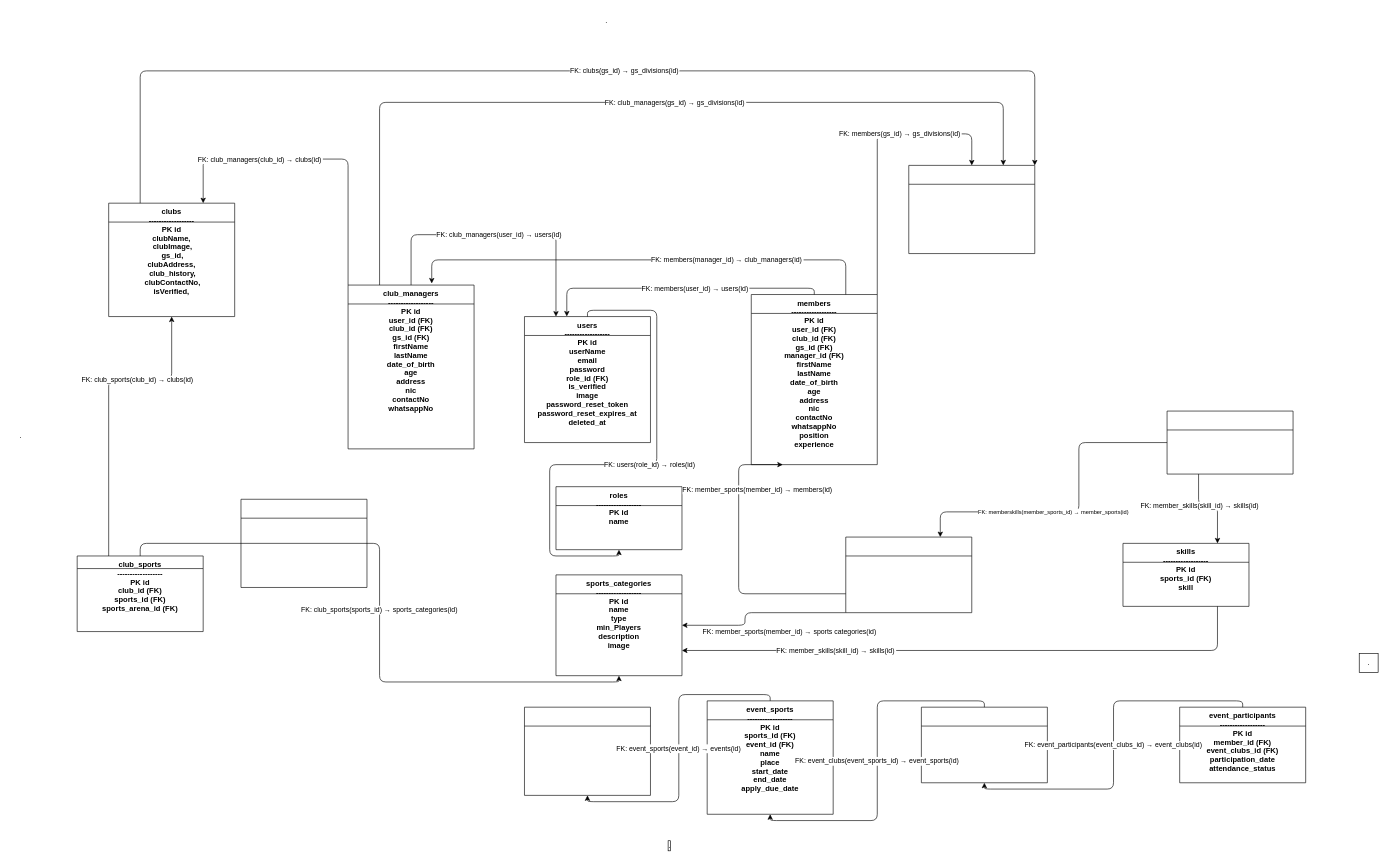
This 1389x866 diagram has some shape labels left out. The centre of each missing label's shape, as x and y in pixels:
event_clubs ------------------ PK id club_id (FK) event_sports_id (FK): (984,745)
events ------------------ PK id name image start_date end_date: (587,751)
gs_divisions ------------------ PK id divisionName divisionNo gs_Name contactNo: (971,209)
member_skills ------------------ PK id member_sport_id (FK) skill_id (FK): (1229,442)
member_sports ------------------ PK id member_id (FK) sports_id (FK): (908,574)
sports_arenas ------------------ PK id name location address image: (303,543)
